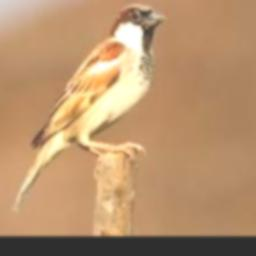Sparrow: (11, 4, 166, 214)
